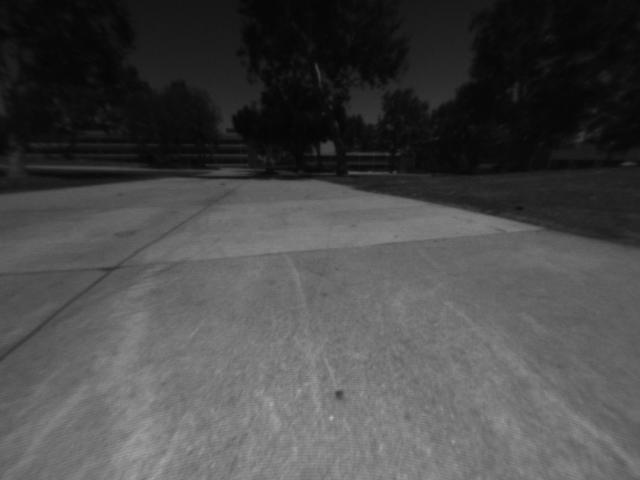dogtoy: (510, 198, 528, 213)
